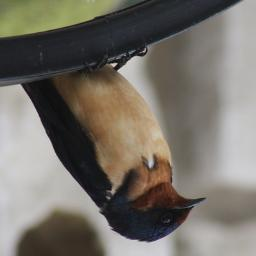Swallow: (16, 39, 208, 245)
